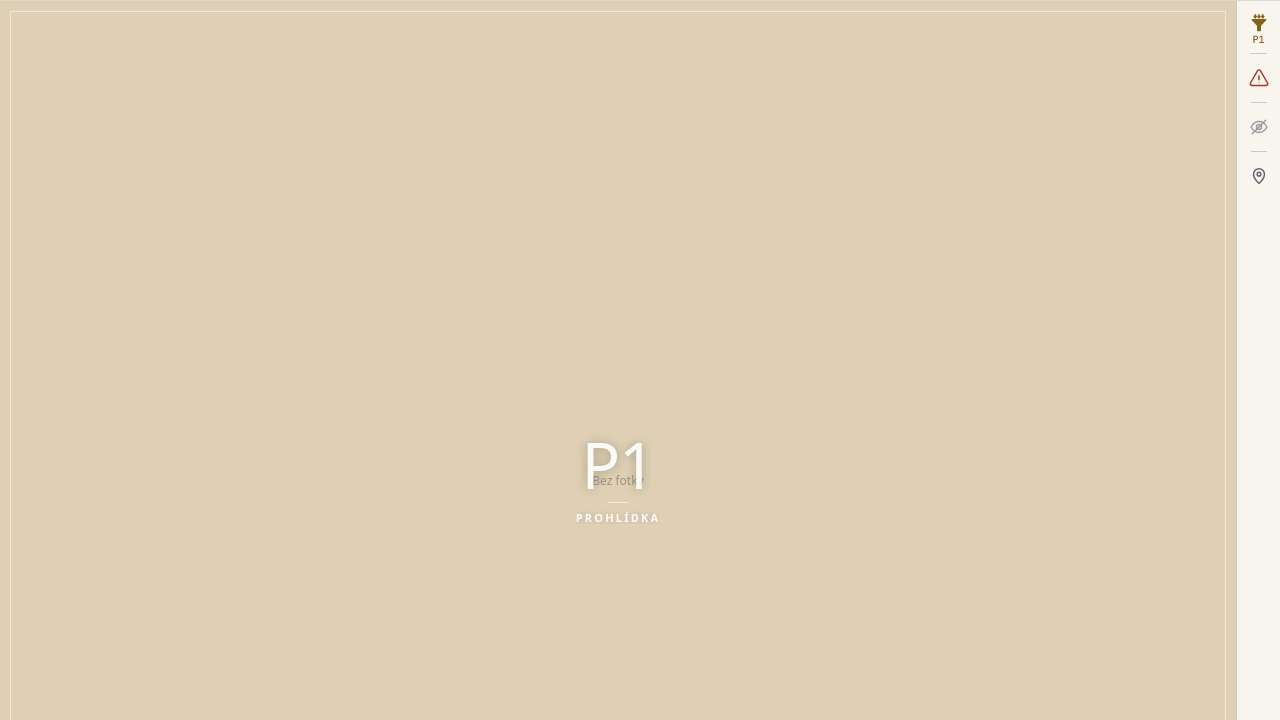
Test case: <FeedCard> — photo, wash, funnel › washes a filed photo in its stage and opens the stage sheet, never removing
The width and height of the screenshot is (1280, 720).
Expected: the text "P1" next to "Bez fotky" is shown, [582, 421, 654, 508]
Expected: the text "Prohlídka" is shown, [576, 511, 660, 524]
Click the button named "Fáze Prohlídka, změnit". click: (1258, 29)
box: [1237, 5, 1279, 53]
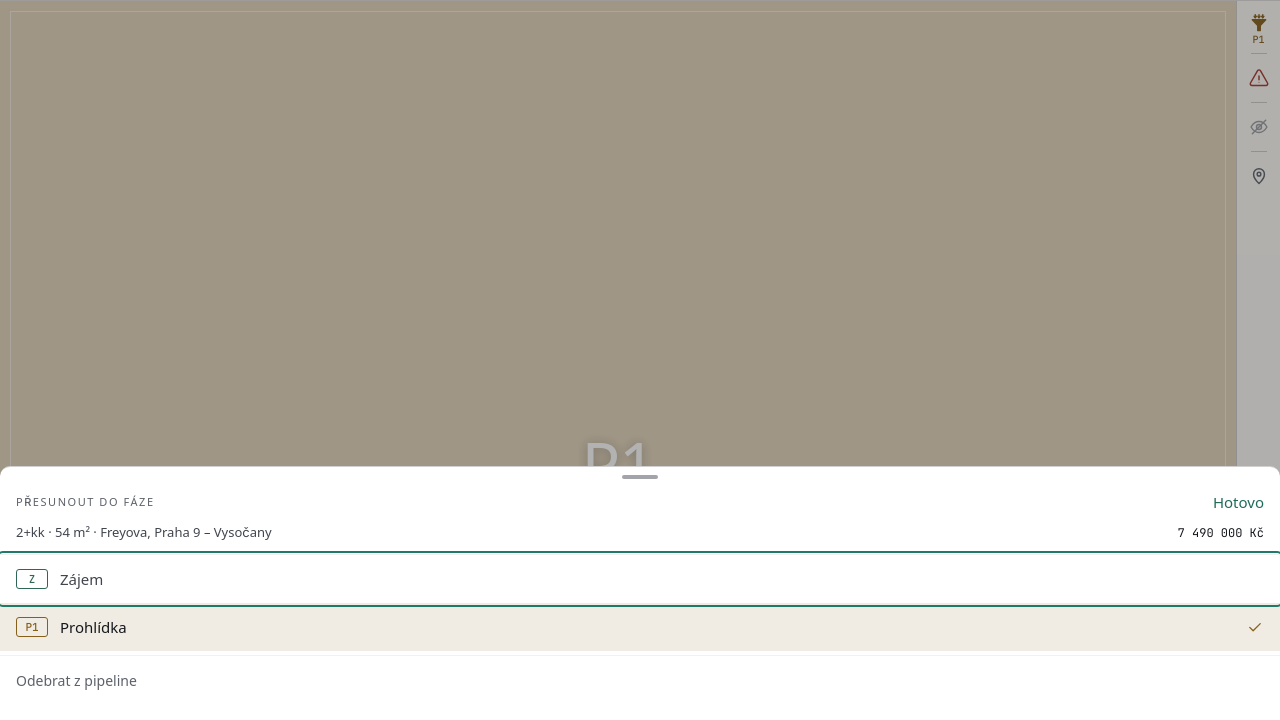
Click the menu item "Odebrat z pipeline". click: (76, 680)
box: [0, 656, 1279, 704]
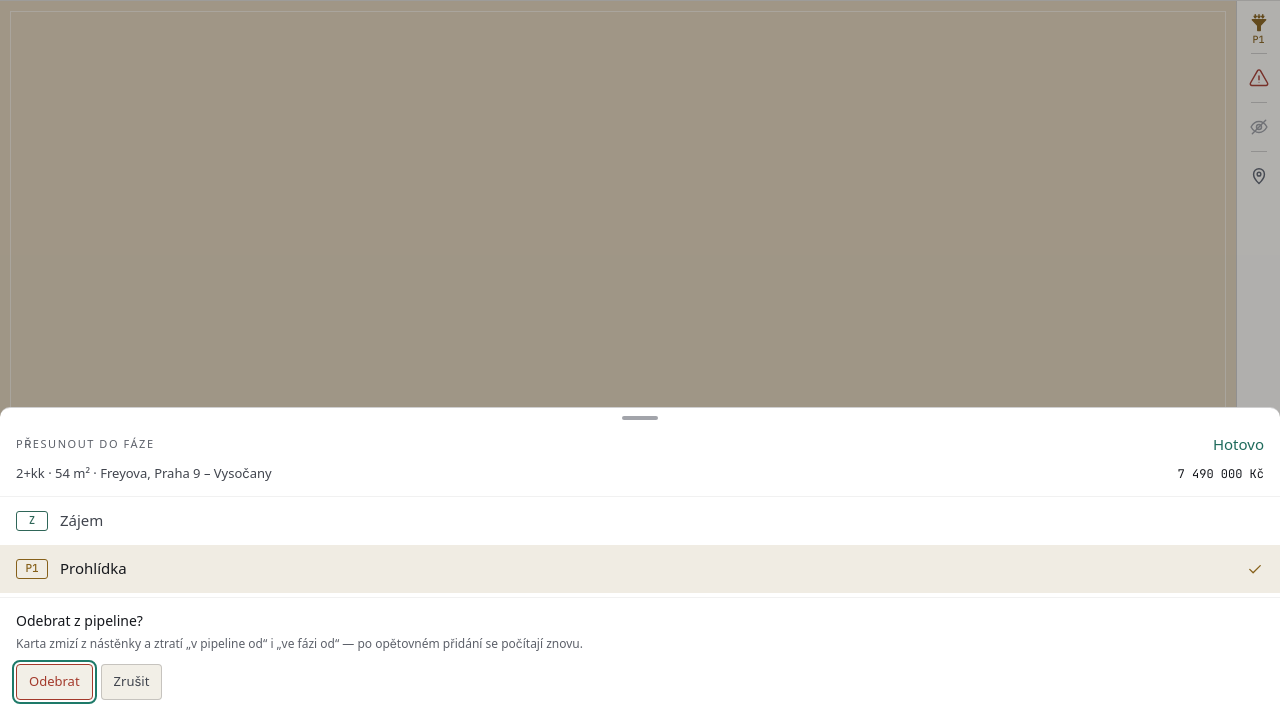
Result: the text "Odebrat z pipeline?" is shown at [16, 611, 143, 630]
